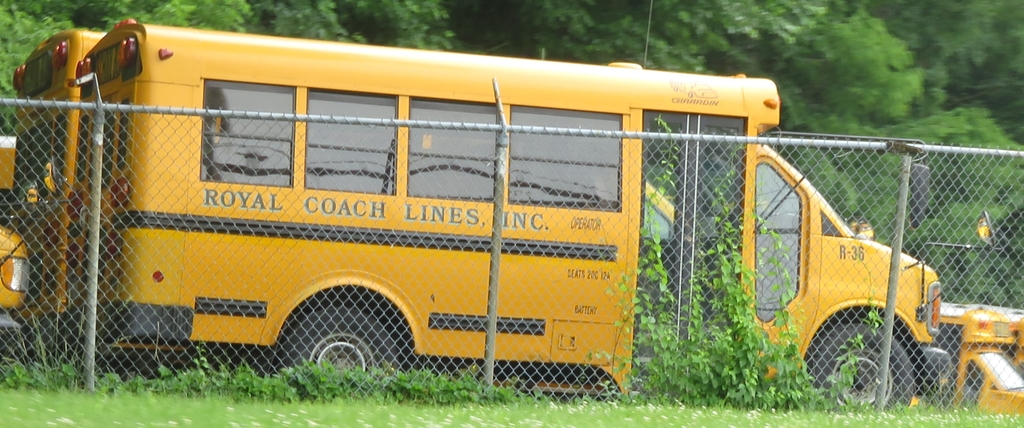Bus: (70, 17, 943, 408), (10, 19, 115, 355), (0, 134, 20, 378)
